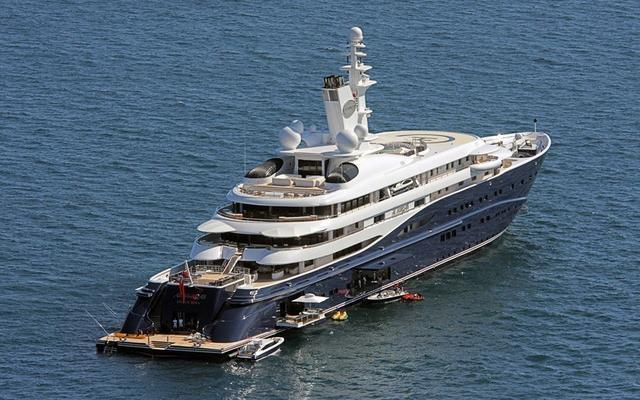yacht: (104, 27, 553, 352)
